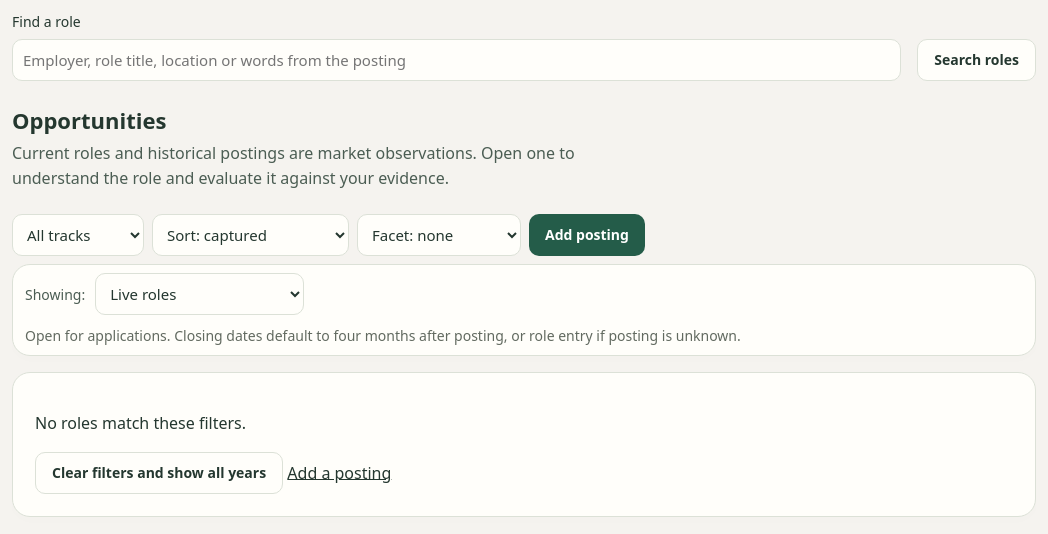
Scenario: Dashboard — posting-year filter › labels the year picker explicitly as posting year
The width and height of the screenshot is (1048, 534).
Select "A specific posting year…" in the dropdown showing "Live roles" at coordinates (200, 294), box 95,273 -> 304,315
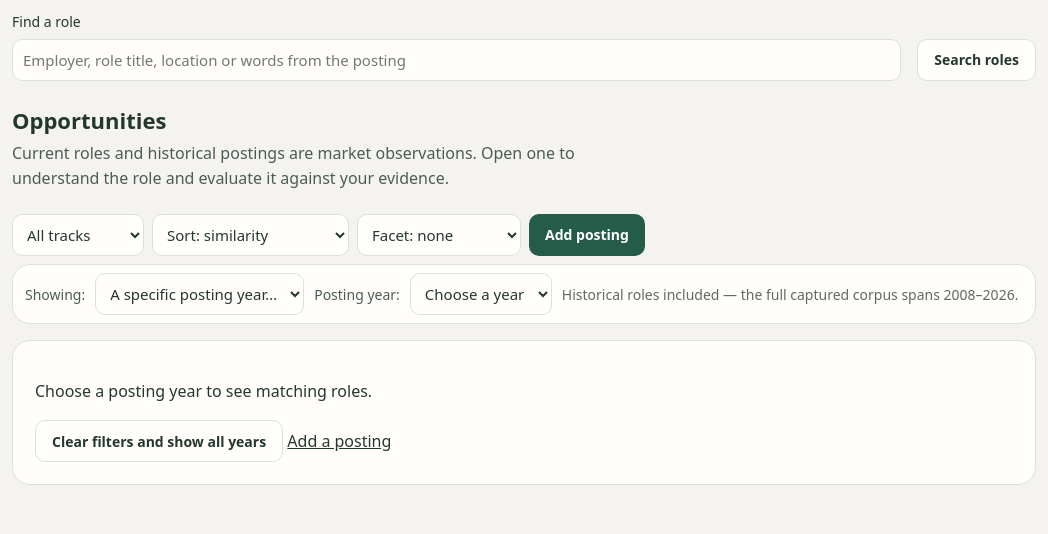
Now the text "Posting year:" is shown, box 314,284 -> 400,305
